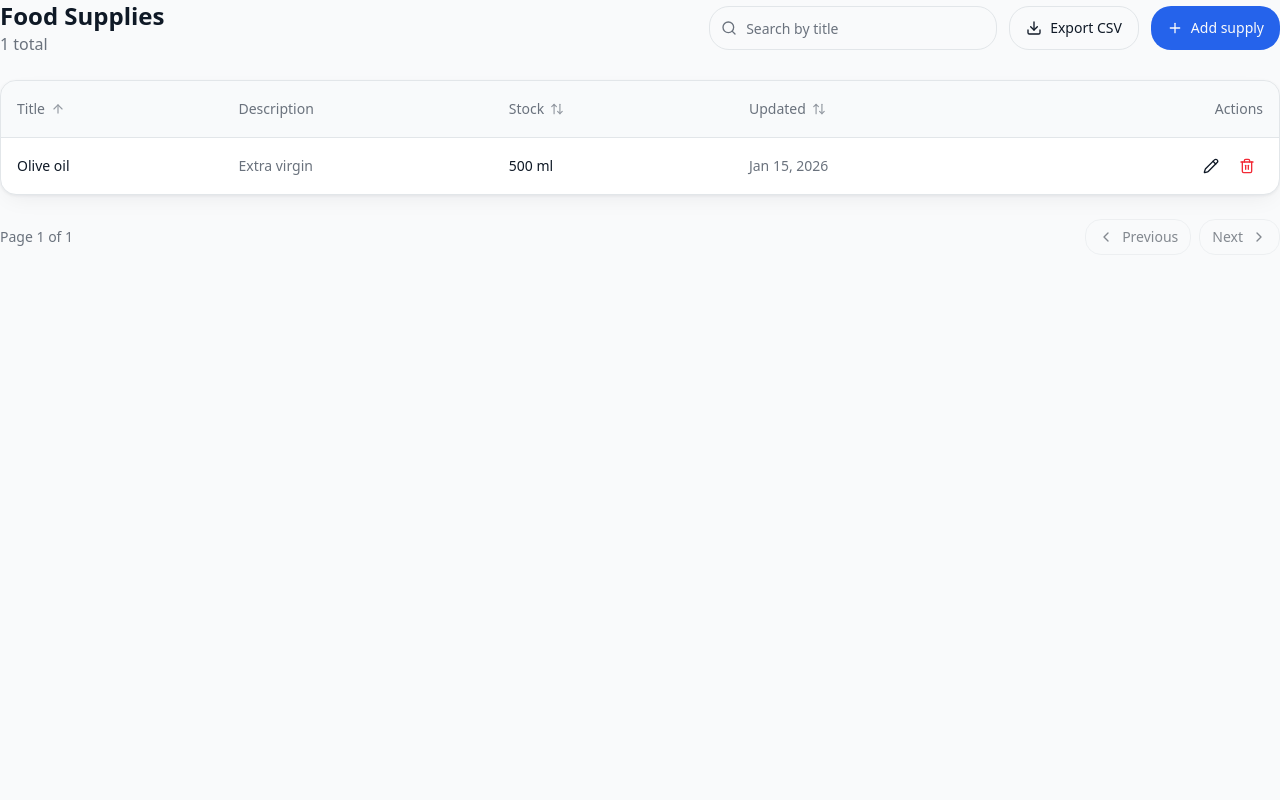
Test: AdminFoodSuppliesPage › loads detail and shows empty manual edit history in edit dialog
Check: the text "Olive oil" is shown, box [17,156,70,176]
Click the button named "Edit food supply" at point(1211, 166), box [1195,150,1227,182]
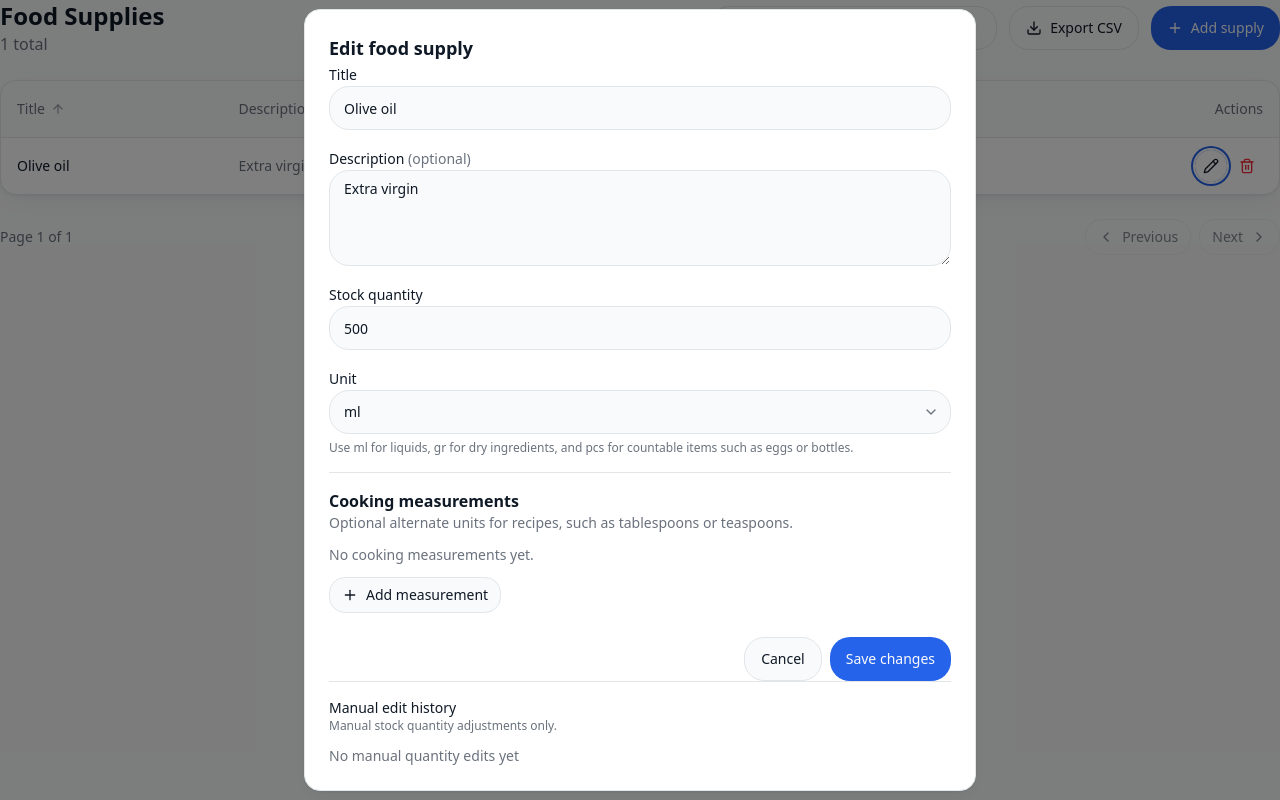
Check: the text "No manual quantity edits yet" is shown, box [329,746,519,765]
